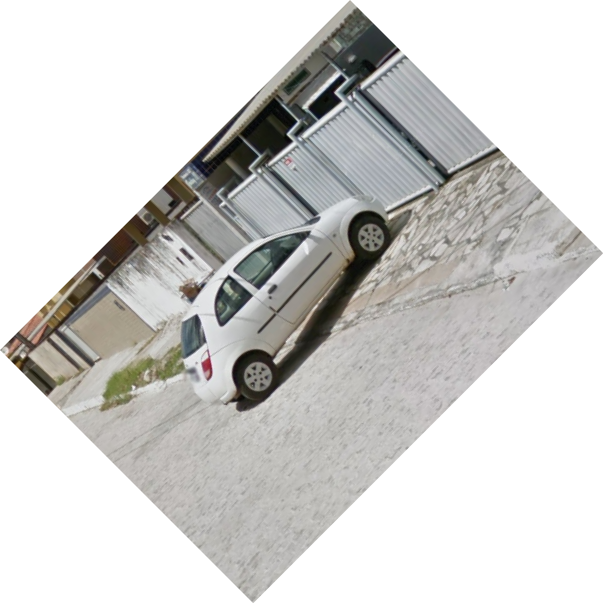car: (180, 191, 393, 405)
